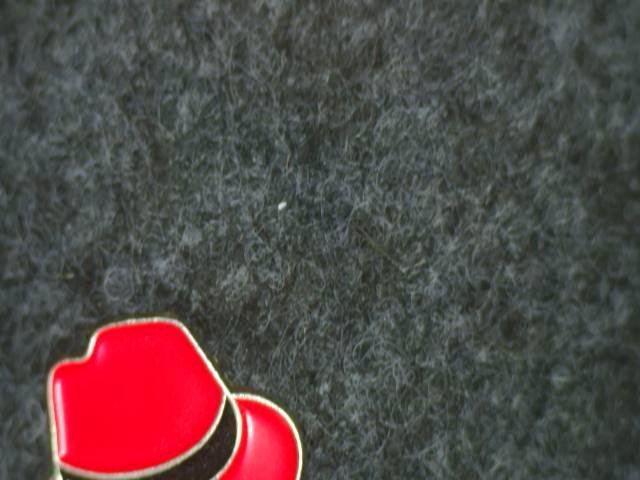Red-Hat: (14, 300, 332, 480)
